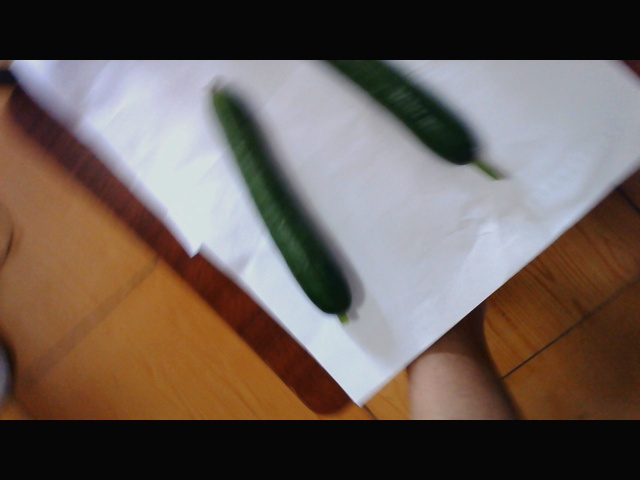cucumber: (206, 79, 342, 322), (315, 57, 493, 165)
